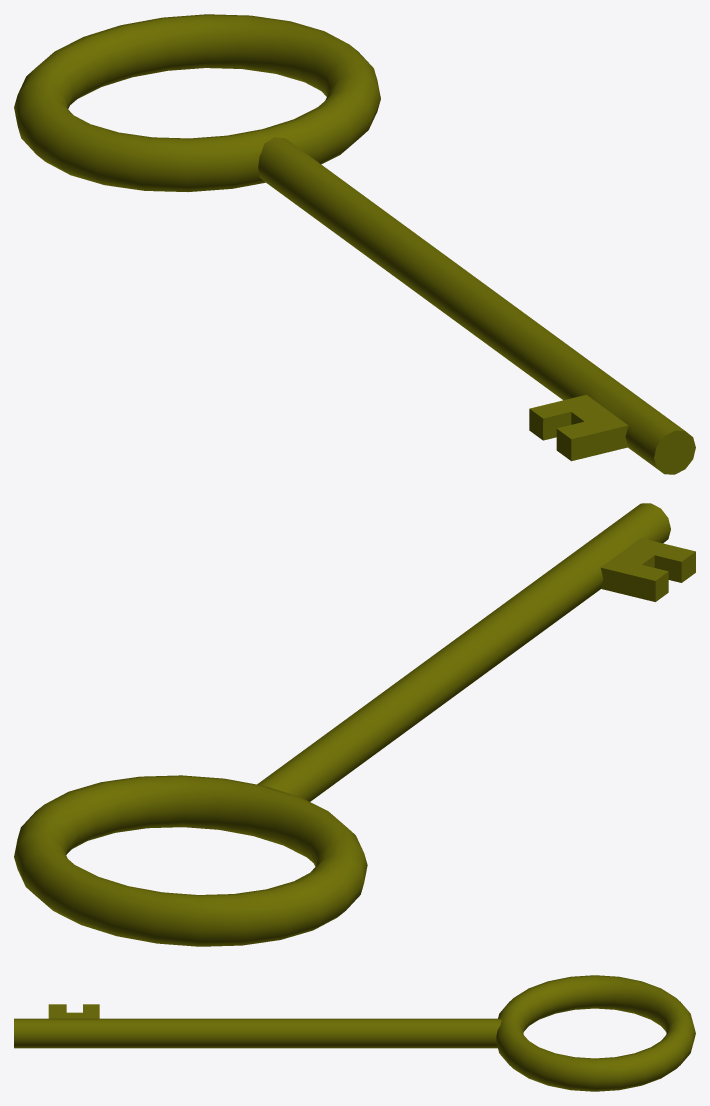
The model's file is long key.FBX.
The picture shows the model from 3 angles, top to bottom: view 1: azimuth 30°, elevation 25°; view 2: azimuth 150°, elevation 25°; view 3: azimuth 270°, elevation 25°; orthographic projection. The views are drawn at different scales.
Parts seen in each view (by area): view 1: Cylinder001; view 2: Cylinder001; view 3: Cylinder001.
Part boxes in pixels (x1,y1,x2,y2): Cylinder001: [14, 14, 695, 474]; Cylinder001: [14, 503, 695, 946]; Cylinder001: [14, 975, 695, 1091].
Bounding box in the file's own units: 23.4 × 3.4 × 69.26.
